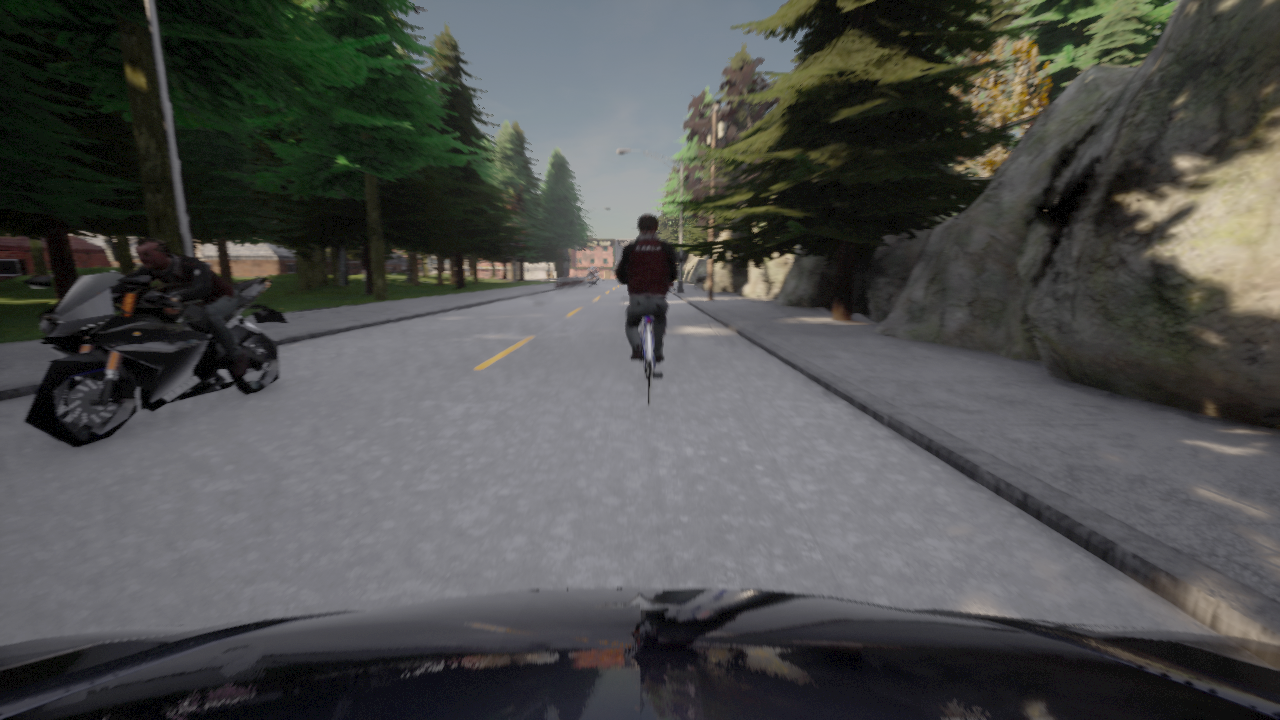cyclist: (0, 588, 1279, 719), (22, 270, 288, 447), (641, 316, 662, 404), (585, 274, 594, 287), (595, 272, 599, 285)
pedestrian: (669, 282, 674, 289)
